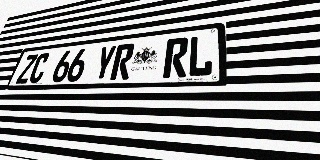6: (65, 48, 90, 82), (50, 50, 75, 82)
C: (27, 53, 51, 83)
L: (187, 34, 213, 77)
R: (163, 37, 189, 78), (110, 43, 135, 80)
Y: (92, 45, 117, 81)
Z: (15, 54, 39, 84)
